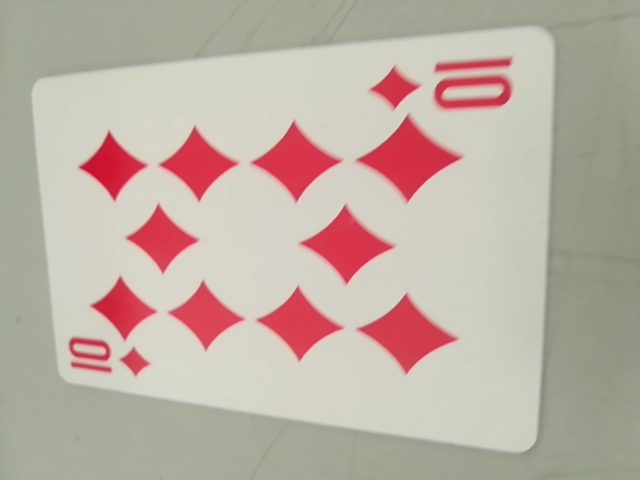fk 10: (368, 46, 522, 122), (58, 330, 156, 387)
